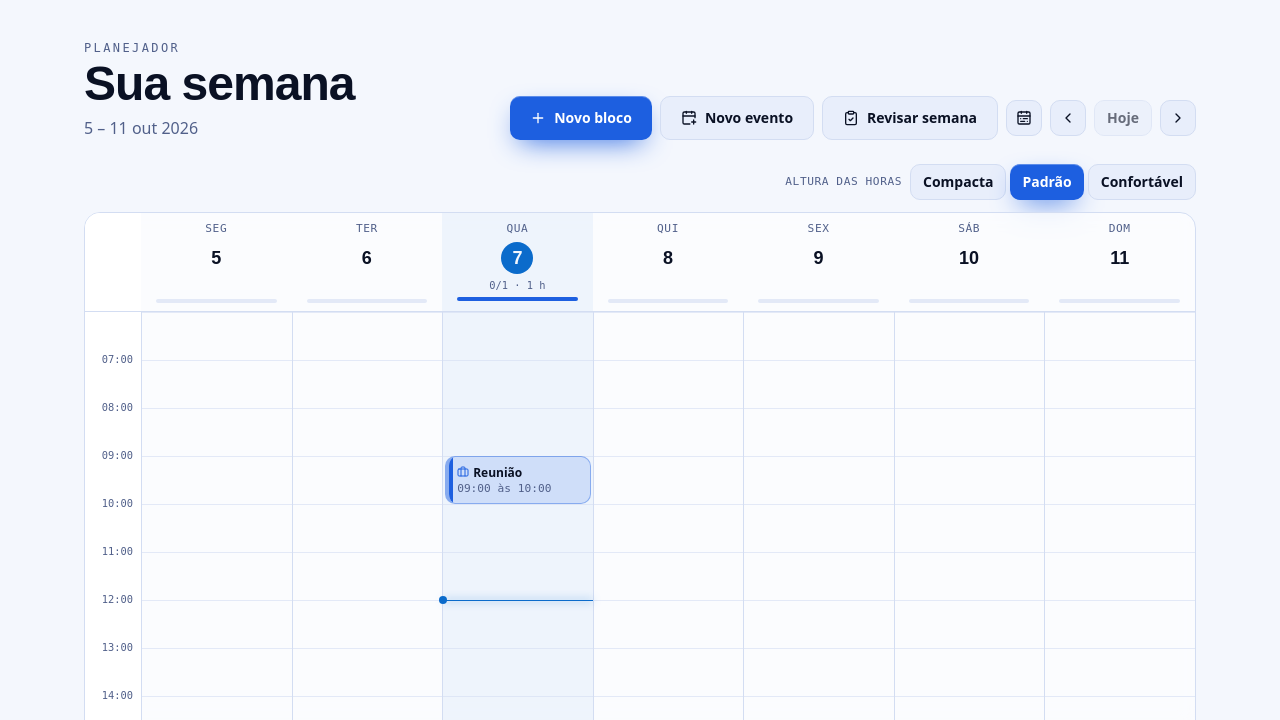
Scenario: WeekPage: arrastar e soltar na grade (RF18) › a grade muda na hora (otimista), antes de o servidor responder
The width and height of the screenshot is (1280, 720).
Click the button with aria-label "Reunião, quarta-feira": click(518, 480) [445,456,591,504]
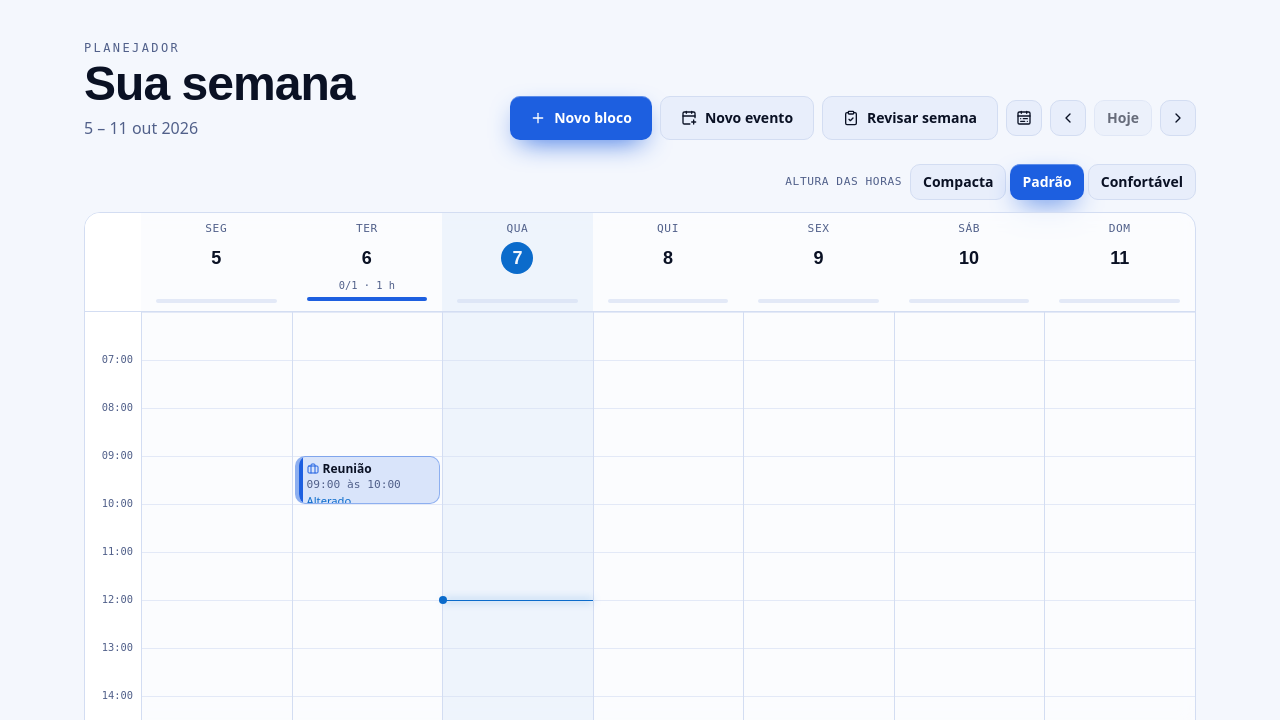
Now the button with aria-label "Reunião, terça-feira" is shown, box [295,456,440,504]
